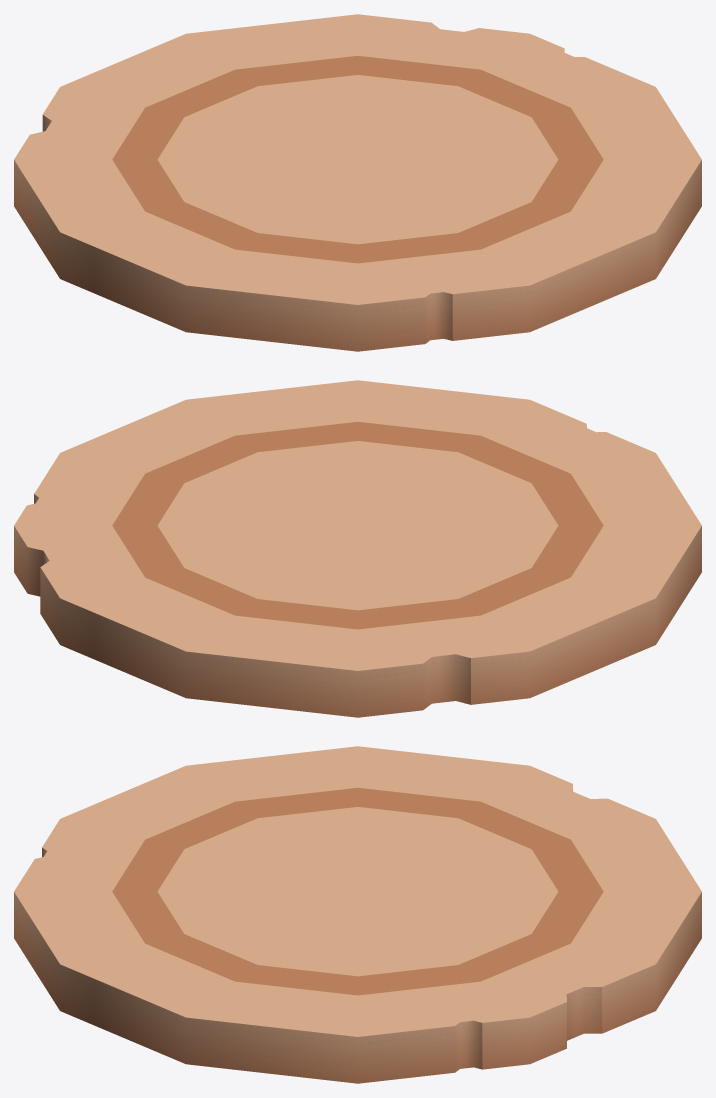
The model's file is cutting-board-round.glb.
The picture shows the model from 3 angles, top to bottom: view 1: azimuth 30°, elevation 25°; view 2: azimuth 150°, elevation 25°; view 3: azimuth 270°, elevation 25°; orthographic projection.
Parts seen in each view (by area): view 1: cutting-board-round; view 2: cutting-board-round; view 3: cutting-board-round.
Boxes of the visible parts, left/top/right/bottom form: cutting-board-round: left=14, top=14, right=701, bottom=351; cutting-board-round: left=14, top=380, right=701, bottom=717; cutting-board-round: left=14, top=746, right=701, bottom=1083.
Size of the model in its own units: 0.8 by 0.06 by 0.8.
1 material, 1 textured.
